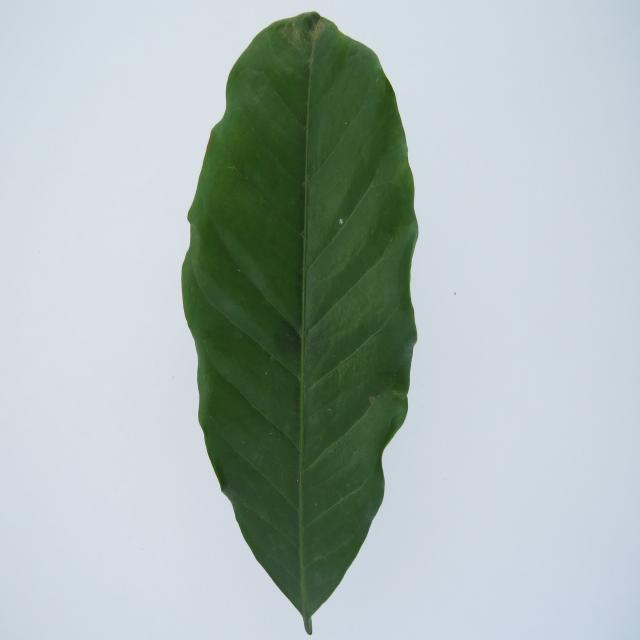DeficienciaNutricional-Boro: (182, 12, 418, 633)
